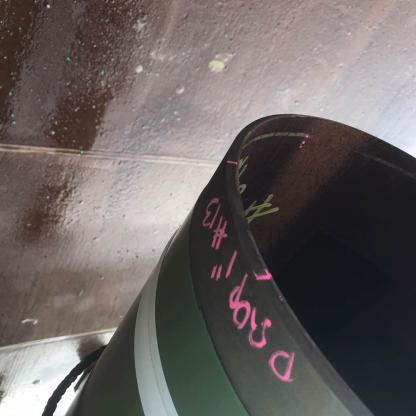Bevel: (239, 216, 258, 232)
